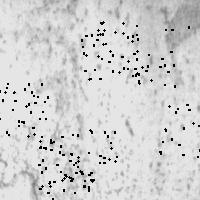pitted_surface: (5, 7, 197, 199), (81, 21, 141, 80), (131, 26, 188, 85), (60, 129, 116, 189), (38, 139, 93, 198), (0, 79, 47, 136), (159, 104, 200, 156)
